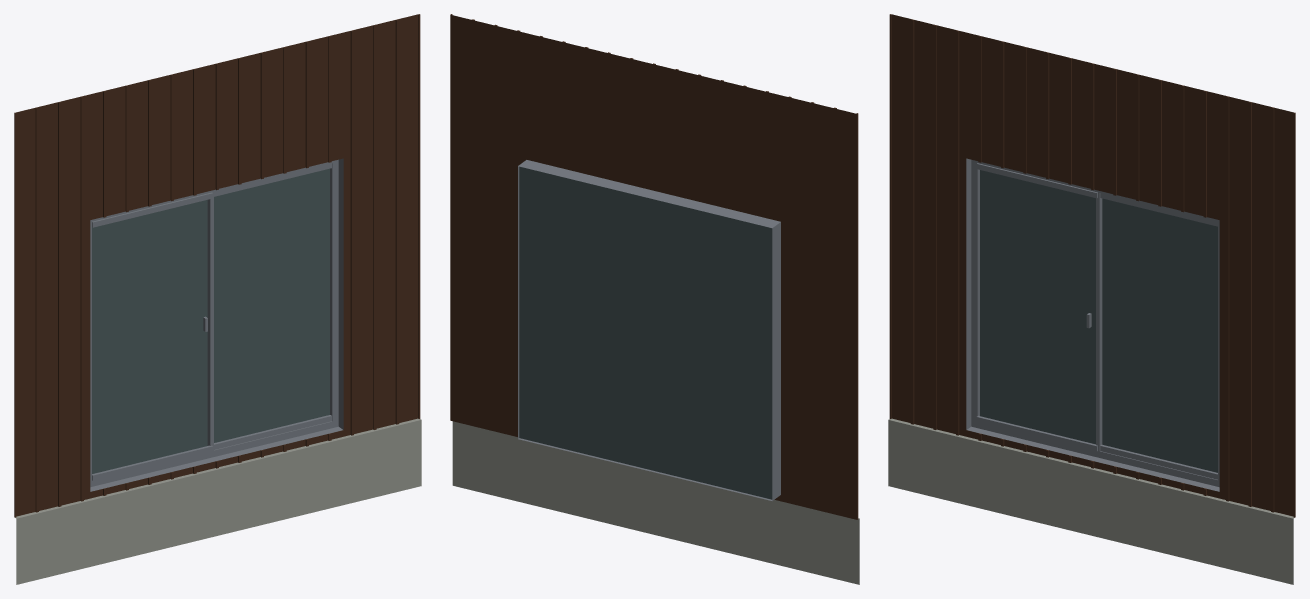
The model's file is base-w3_close.fbx.
3 views of the same model, side by side, from view 1: azimuth 30°, elevation 25°; view 2: azimuth 150°, elevation 25°; view 3: azimuth 330°, elevation 25° (orthographic).
Visible parts, largest first — view 1: a2000/0/base-w3_close; view 2: a2000/0/base-w3_close; view 3: a2000/0/base-w3_close.
Part boxes in pixels (x1,y1,x2,y2): a2000/0/base-w3_close: (14,14,421,584); a2000/0/base-w3_close: (450,14,859,584); a2000/0/base-w3_close: (888,14,1295,584).
Size of the model in its own units: 3.2 by 3.55 by 0.15.
